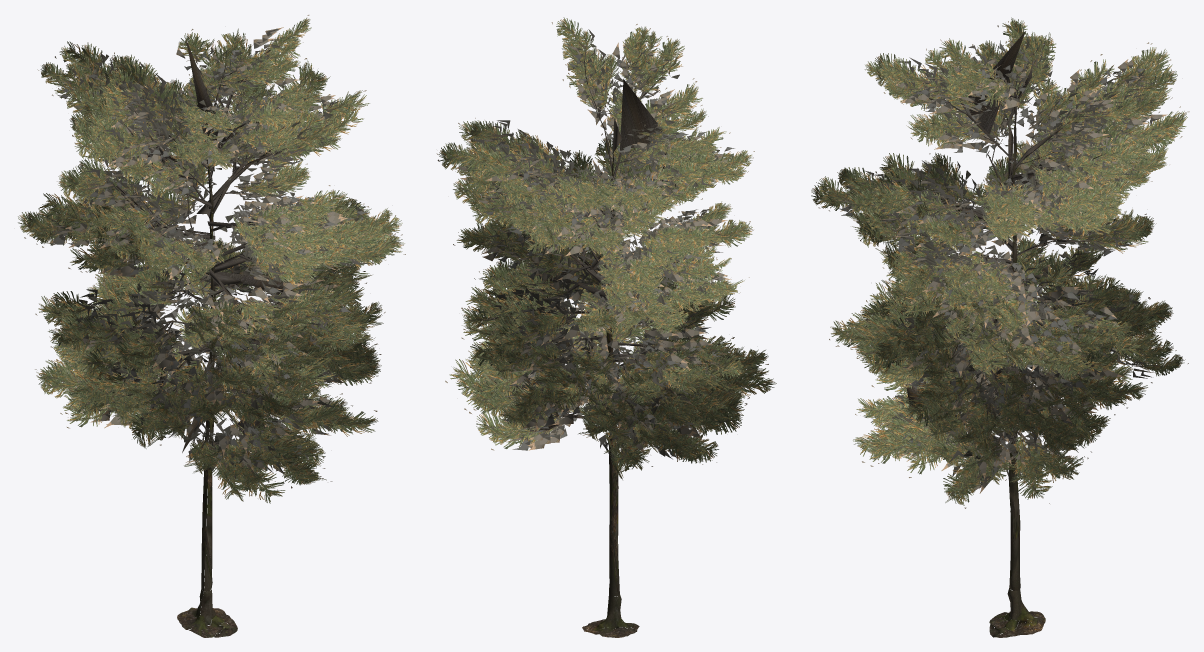
File: veg-tree-pine-lod0-926002284af5.glb
3 renders of one model, left to right at view 1: azimuth 30°, elevation 25°; view 2: azimuth 150°, elevation 25°; view 3: azimuth 270°, elevation 25°, orthographic. The views are drawn at different scales.
Parts seen in each view (by area): view 1: veg-tree-pine_lod0; view 2: veg-tree-pine_lod0; view 3: veg-tree-pine_lod0.
Part boxes in pixels (x1=…): veg-tree-pine_lod0: x1=18, y1=15, x2=405, y2=637; veg-tree-pine_lod0: x1=436, y1=17, x2=776, y2=637; veg-tree-pine_lod0: x1=811, y1=17, x2=1189, y2=637.
Size of the model in its own units: 6.48 by 11.5 by 6.48.
Materials: 3 (3 with a texture image).
